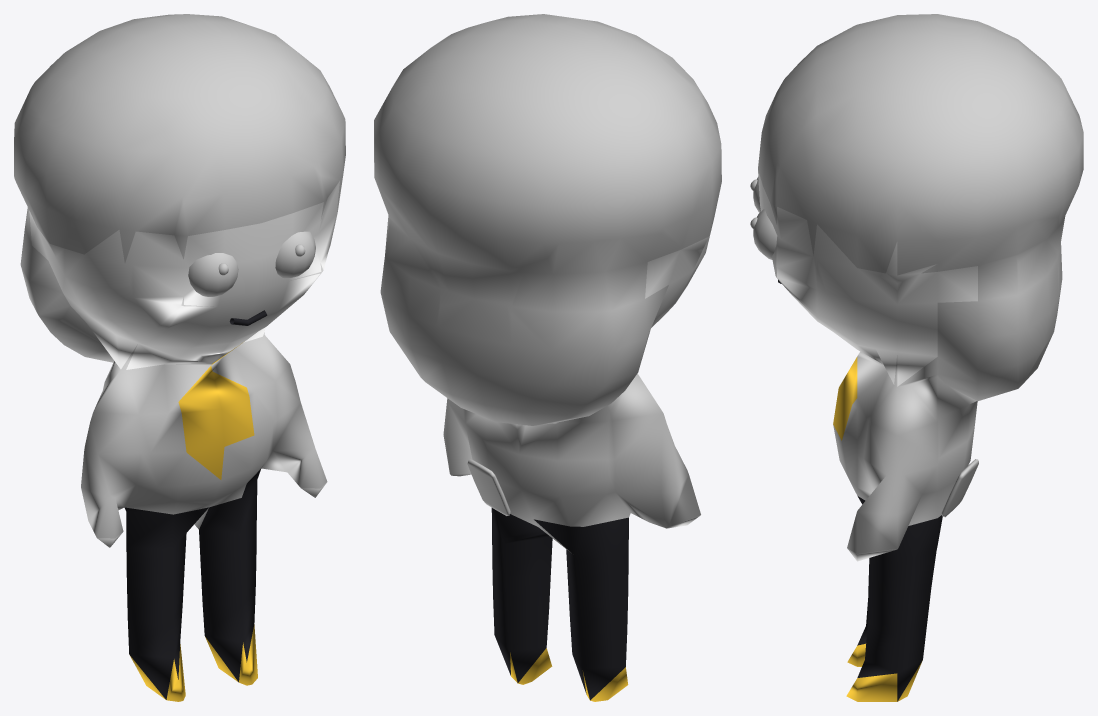
The model's file is idol_boy_c_lod.fbx.
The picture shows the model from 3 angles, left to right: view 1: azimuth 30°, elevation 25°; view 2: azimuth 150°, elevation 25°; view 3: azimuth 270°, elevation 25°; orthographic projection. The views are drawn at different scales.
Visible parts, largest first — view 1: idol_boy_c_lod; view 2: idol_boy_c_lod; view 3: idol_boy_c_lod.
Boxes of the visible parts, x1=… form: idol_boy_c_lod: x1=14, y1=14, x2=345, y2=701; idol_boy_c_lod: x1=374, y1=14, x2=721, y2=701; idol_boy_c_lod: x1=750, y1=14, x2=1083, y2=701.
Size of the model in its own units: 0.5899 by 1.23 by 0.573.
